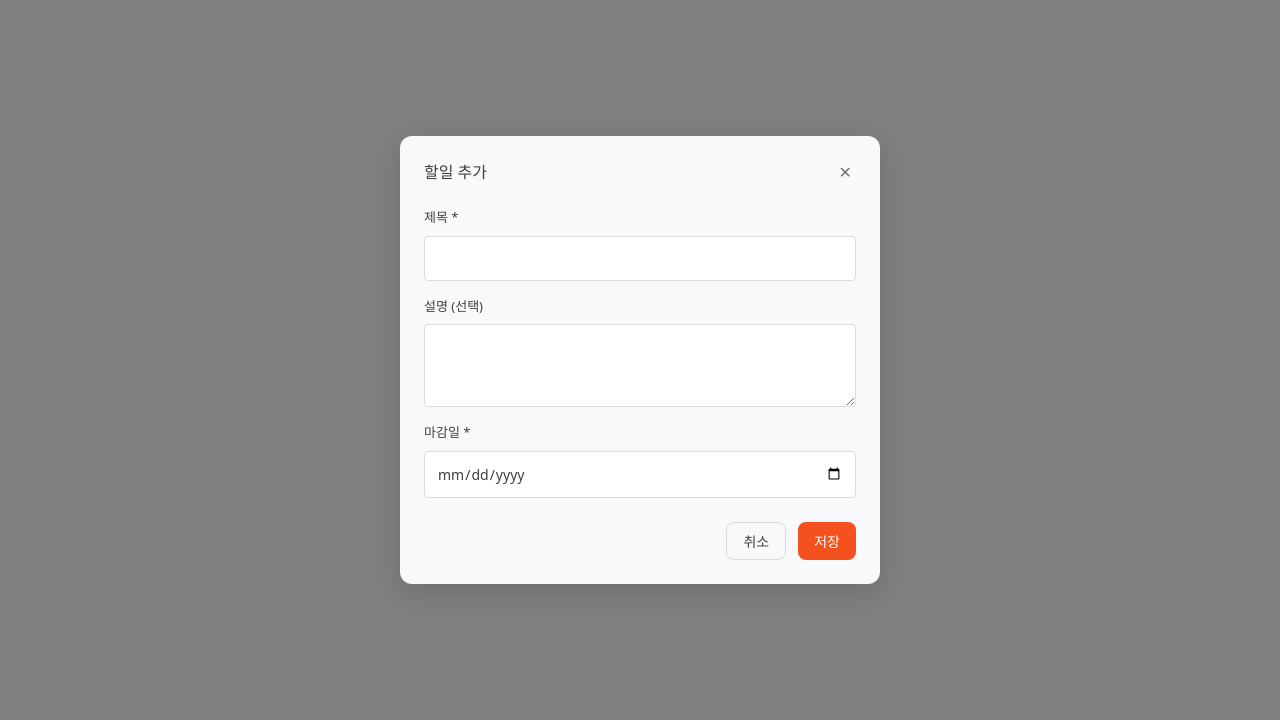
Test: TodoFormModal › 마감일 미입력 시 에러가 표시된다
In the field labelled "제목 *": (640, 258) [424,236,856,281], type "테스트"
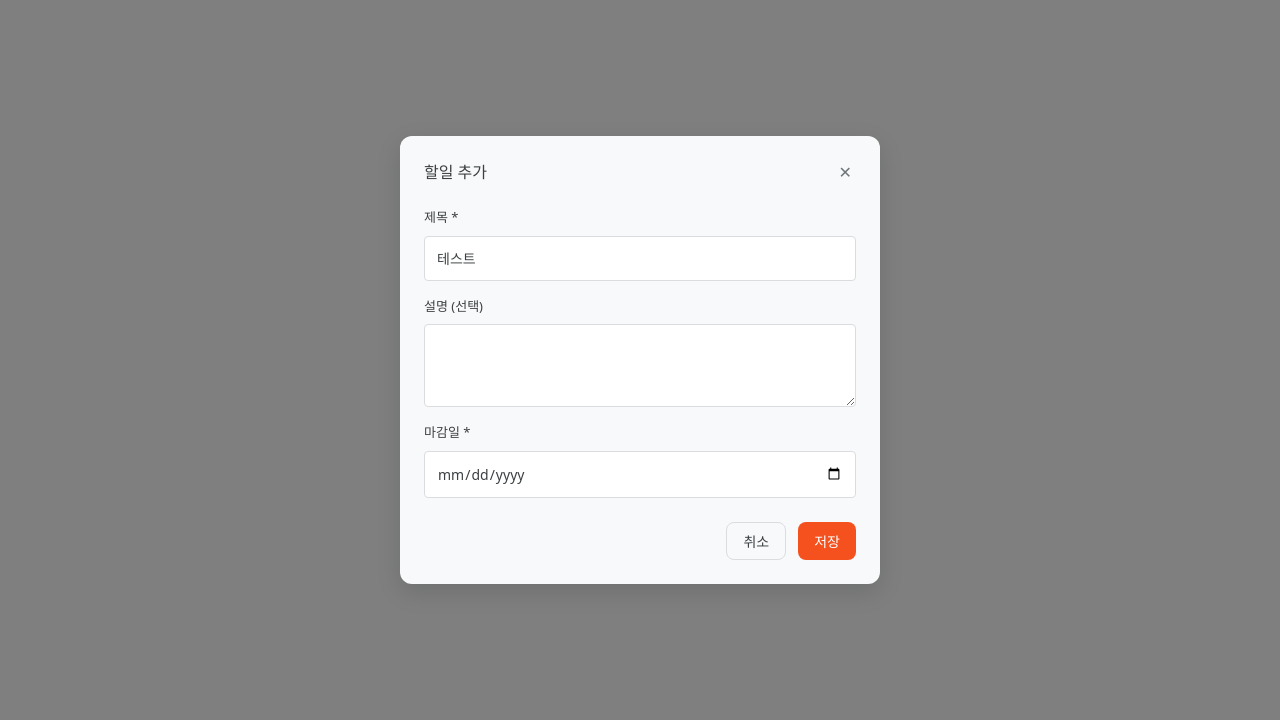
Submit the form, box [424,208,856,560]
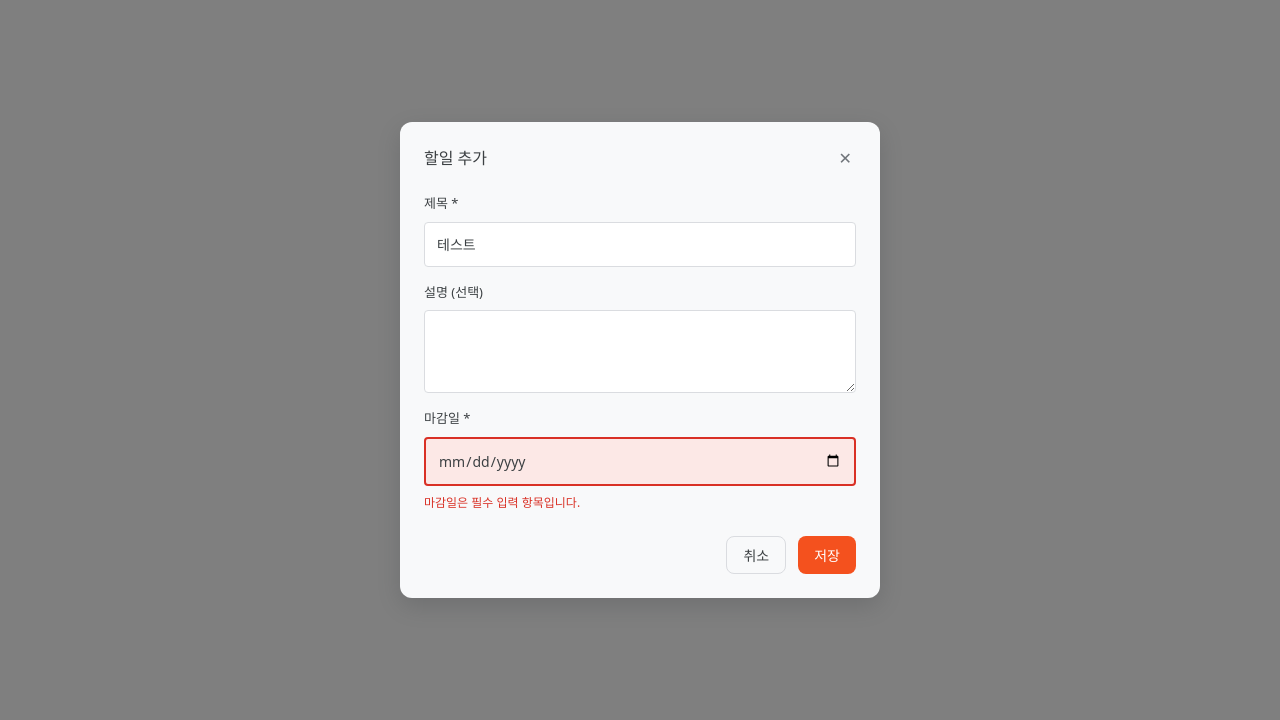
expect the text "마감일은 필수 입력 항목입니다." is shown: met, box [424,494,580,511]
